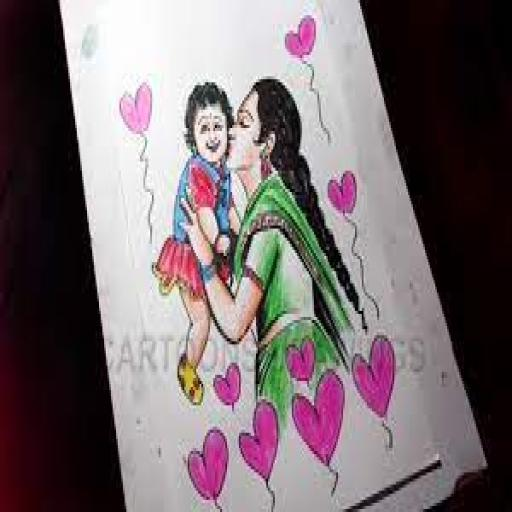person: (183, 76, 366, 423), (147, 76, 235, 429)
